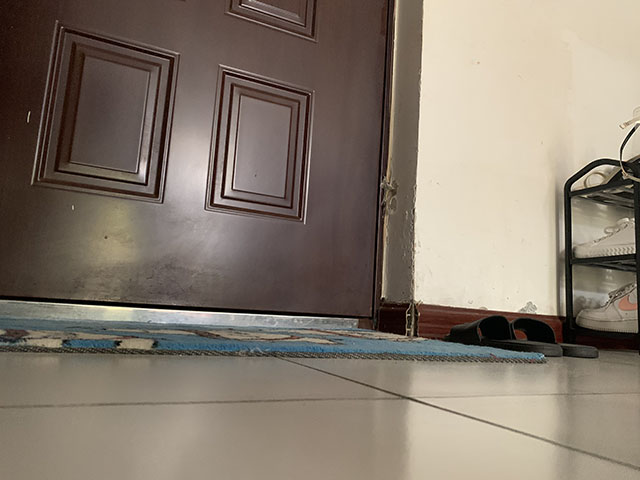carpet: (1, 317, 548, 365)
slippers: (439, 306, 566, 360), (515, 310, 599, 356)
